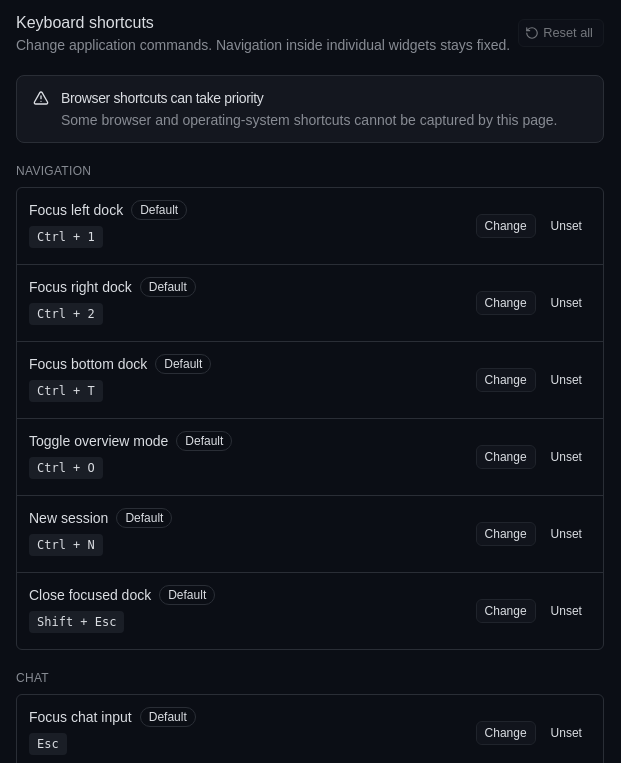
Test: KeybindsPanel › supports explicitly unassigning a command
Click the button with aria-label "Unset Focus right dock" at (566, 303), box [542, 291, 591, 315]
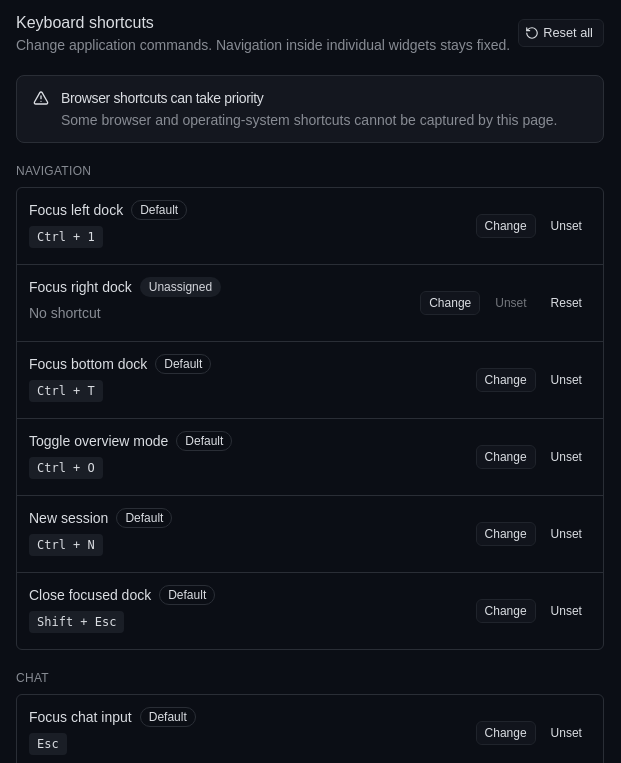
Expected: the text "No shortcut" is shown, [29, 305, 101, 321]
